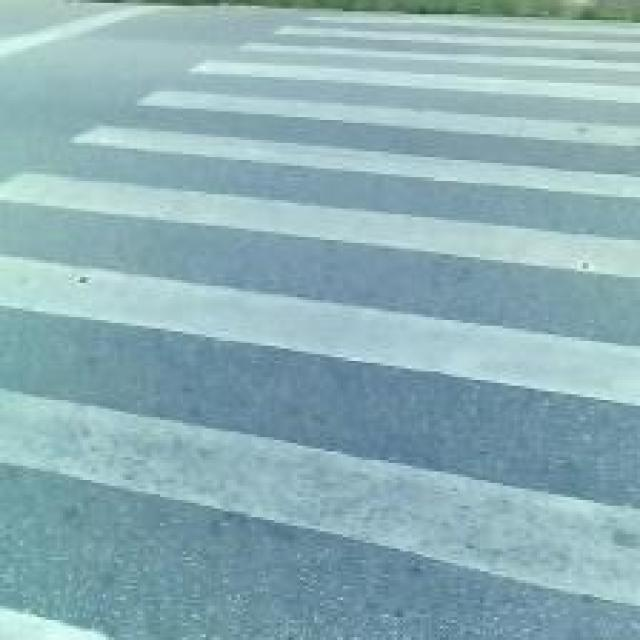walk-crossing: (46, 28, 618, 640)
